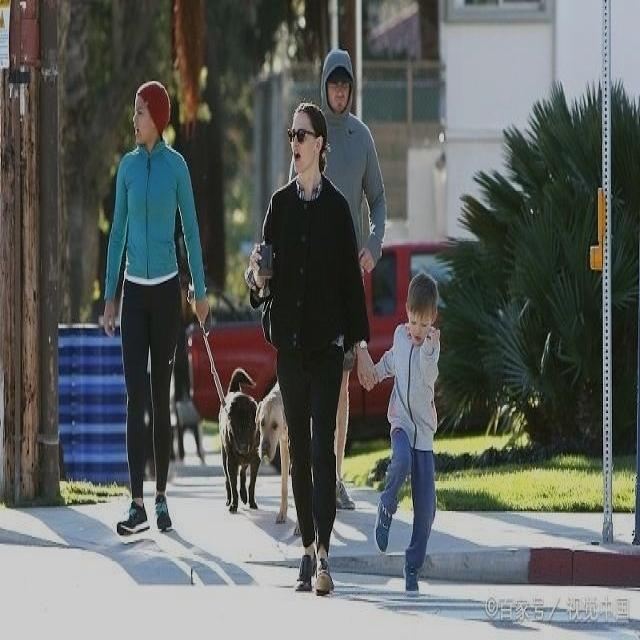non-fight: (258, 98, 362, 599), (98, 74, 207, 542), (372, 268, 444, 592)
